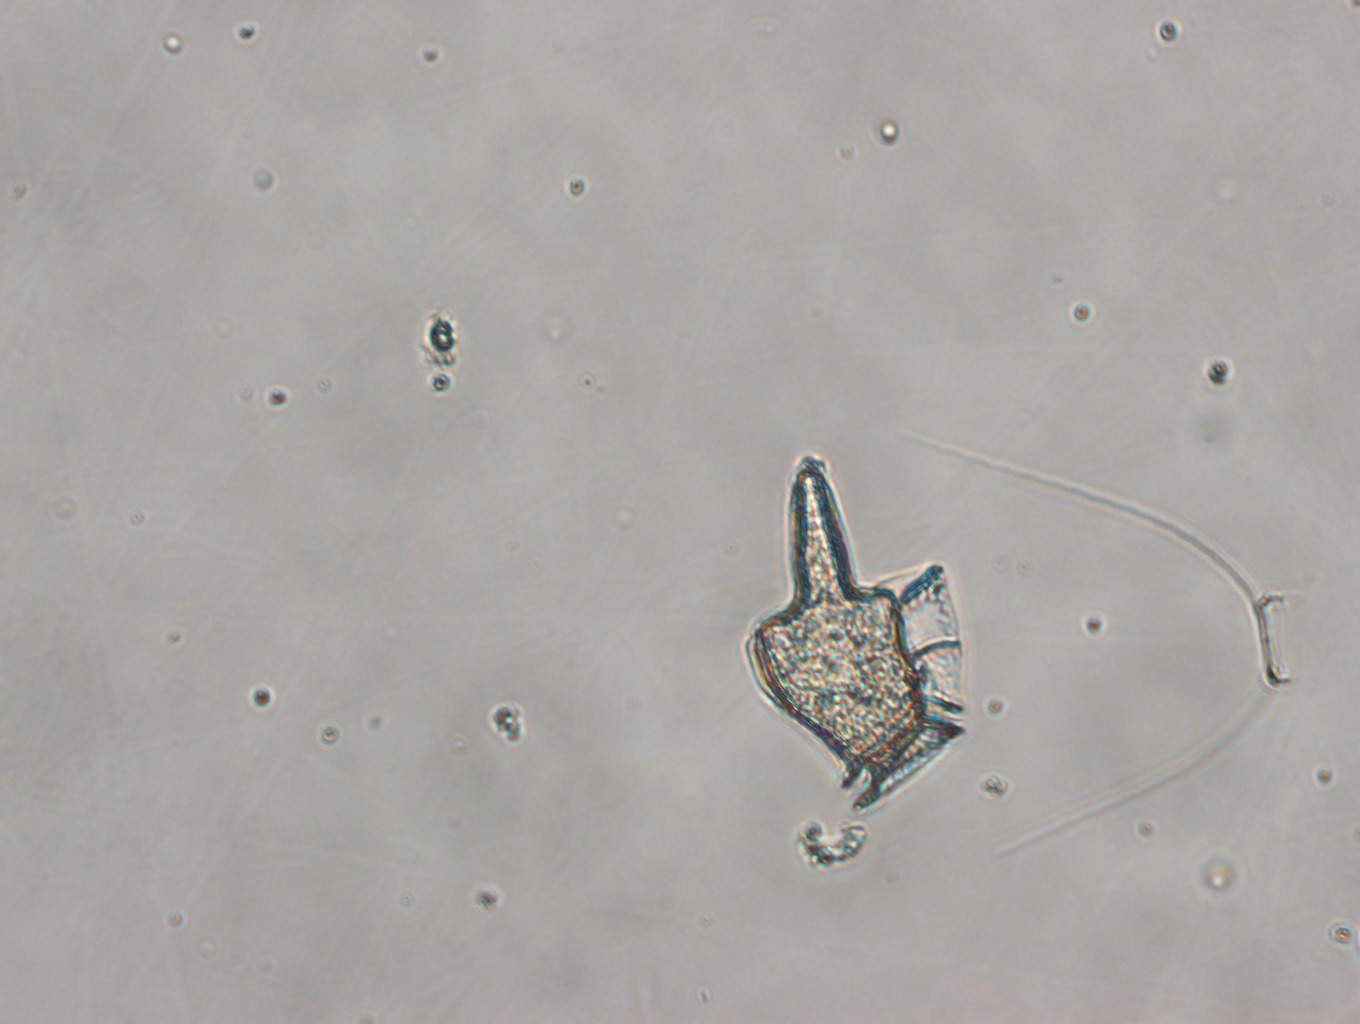chaetoceros: (911, 431, 1297, 861)
dinophysis caudata: (738, 453, 972, 811)
